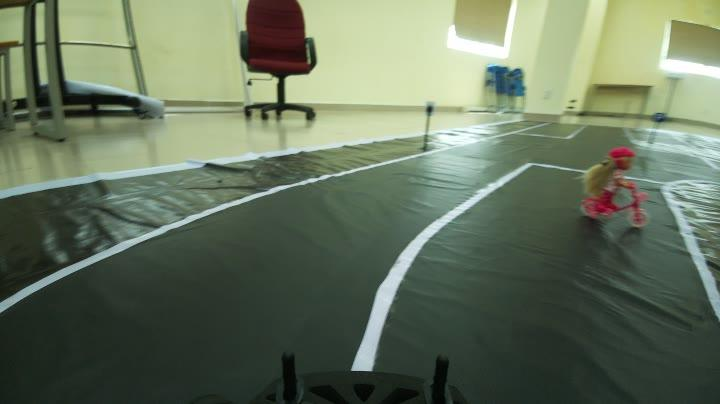pedestrian: (584, 138, 654, 236)
